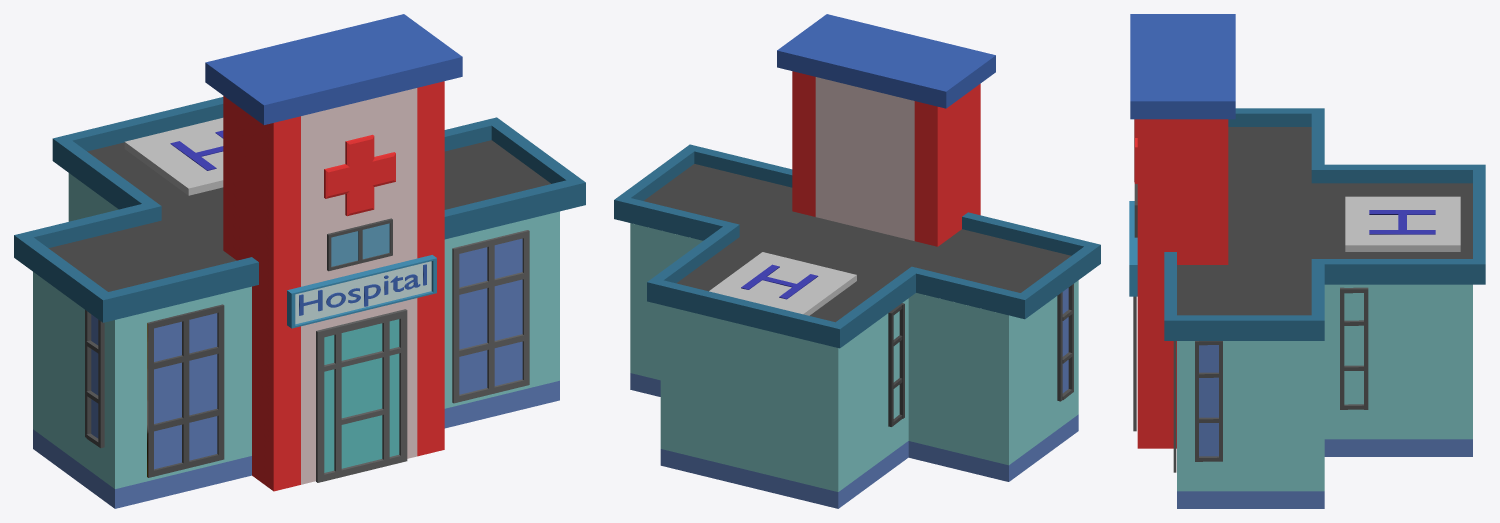
The model's file is Bld_Hospital.fbx.
The picture shows the model from 3 angles, left to right: view 1: azimuth 30°, elevation 25°; view 2: azimuth 150°, elevation 25°; view 3: azimuth 270°, elevation 25°; orthographic projection. The views are drawn at different scales.
Visible parts, largest first — view 1: Cube.200; view 2: Cube.200; view 3: Cube.200.
Boxes of the visible parts, x1=… form: Cube.200: x1=14, y1=14, x2=585, y2=508; Cube.200: x1=614, y1=14, x2=1100, y2=508; Cube.200: x1=1129, y1=14, x2=1485, y2=508.
Bounding box in the file's own units: 1185 × 921 × 841.
